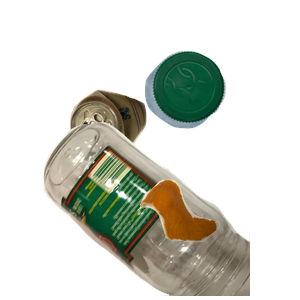glass: (41, 120, 281, 300)
metal: (67, 87, 206, 234)
plastic: (142, 48, 300, 169)
trash: (137, 177, 300, 300)
